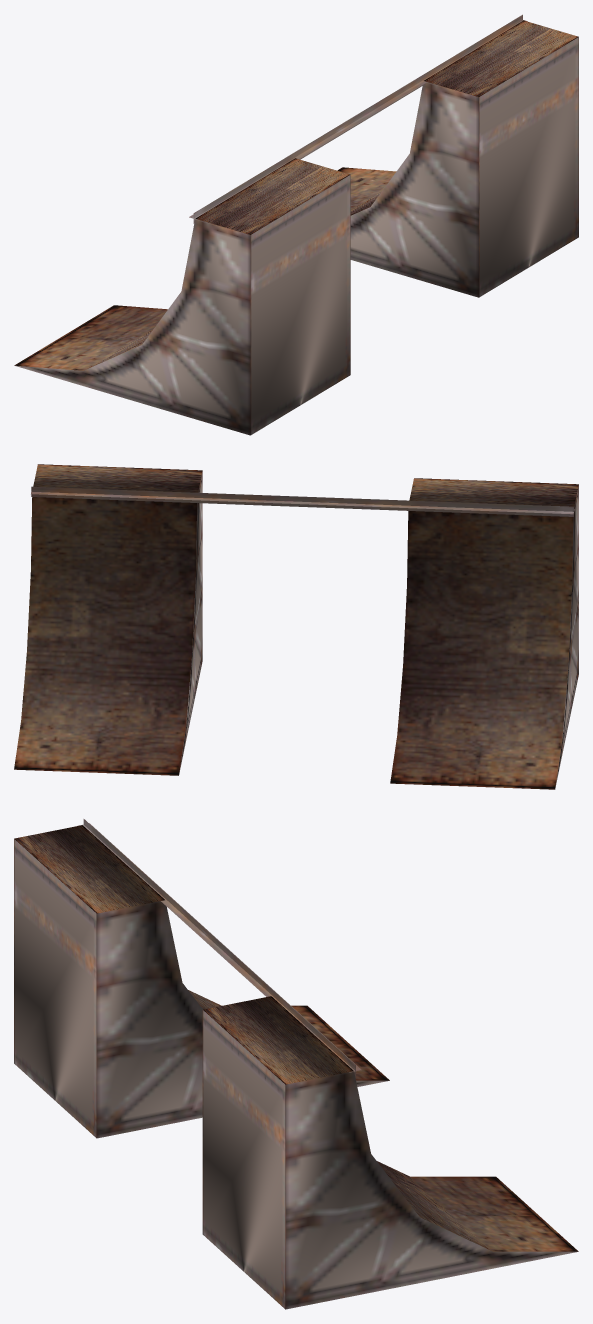
Rendered from thpg.ico.obj.
3 views of the same model, one above another, from view 1: azimuth 30°, elevation 25°; view 2: azimuth 150°, elevation 25°; view 3: azimuth 270°, elevation 25° (orthographic). The views are drawn at different scales.
Bounding box in the file's own units: 3.4 × 1.21 × 2.67.
1 material, 1 textured.
